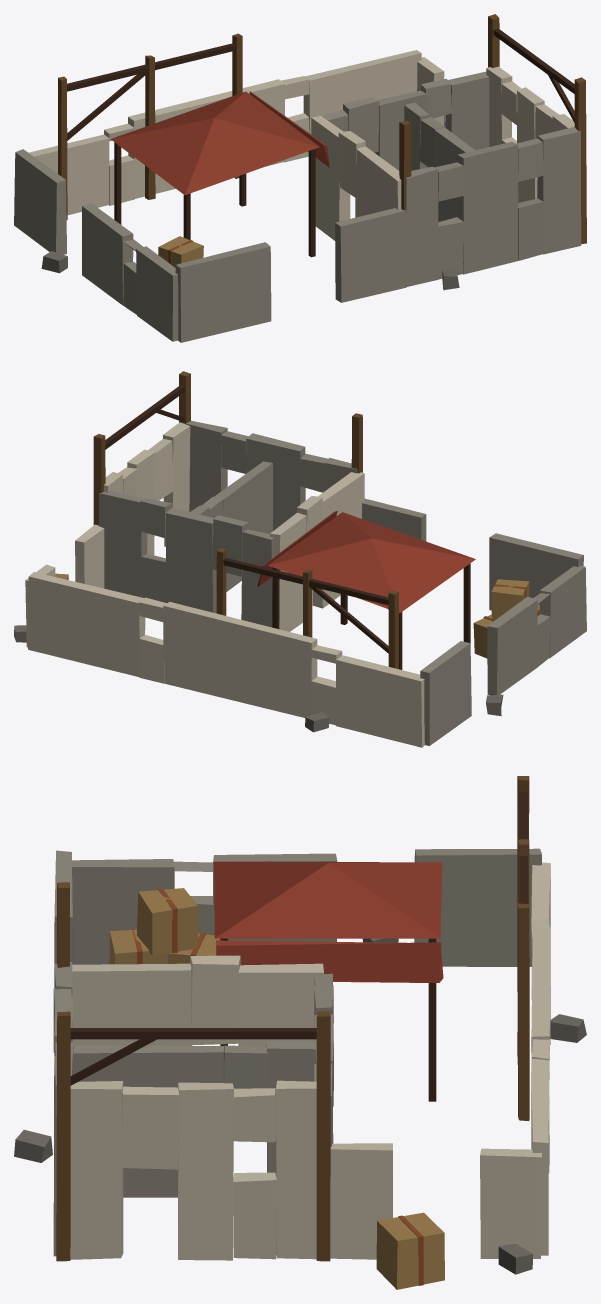
File: ruin_compound.glb
3 renders of one model, top to bottom at view 1: azimuth 30°, elevation 25°; view 2: azimuth 150°, elevation 25°; view 3: azimuth 270°, elevation 25°, orthographic. The views are drawn at different scales.
Visible parts, largest first — view 1: ruin_compound; view 2: ruin_compound; view 3: ruin_compound.
Boxes of the visible parts, box(x1,y1,x2,y2) form: ruin_compound: box(14, 14, 586, 342); ruin_compound: box(14, 371, 586, 747); ruin_compound: box(14, 776, 586, 1289).
Bounding box in the file's own units: 18.92 × 6.28 × 13.21.
